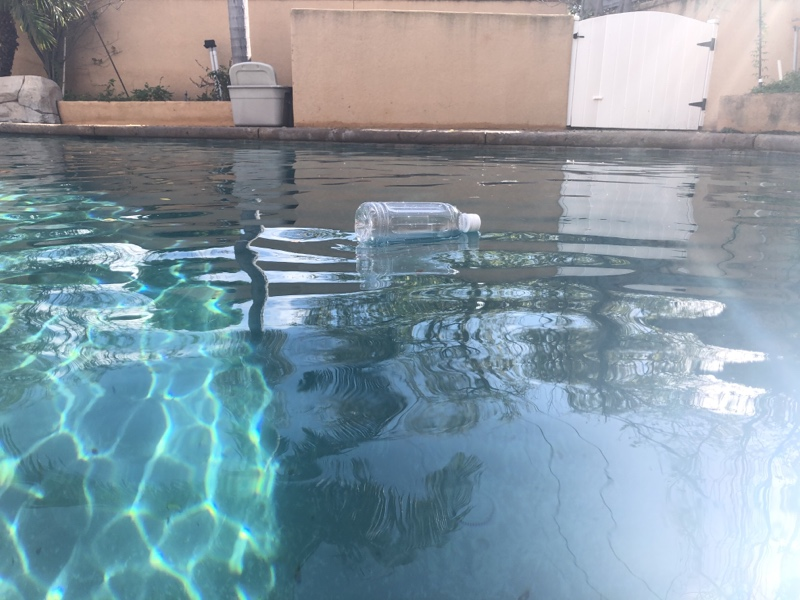Plastic Bottle: (351, 198, 483, 248)
